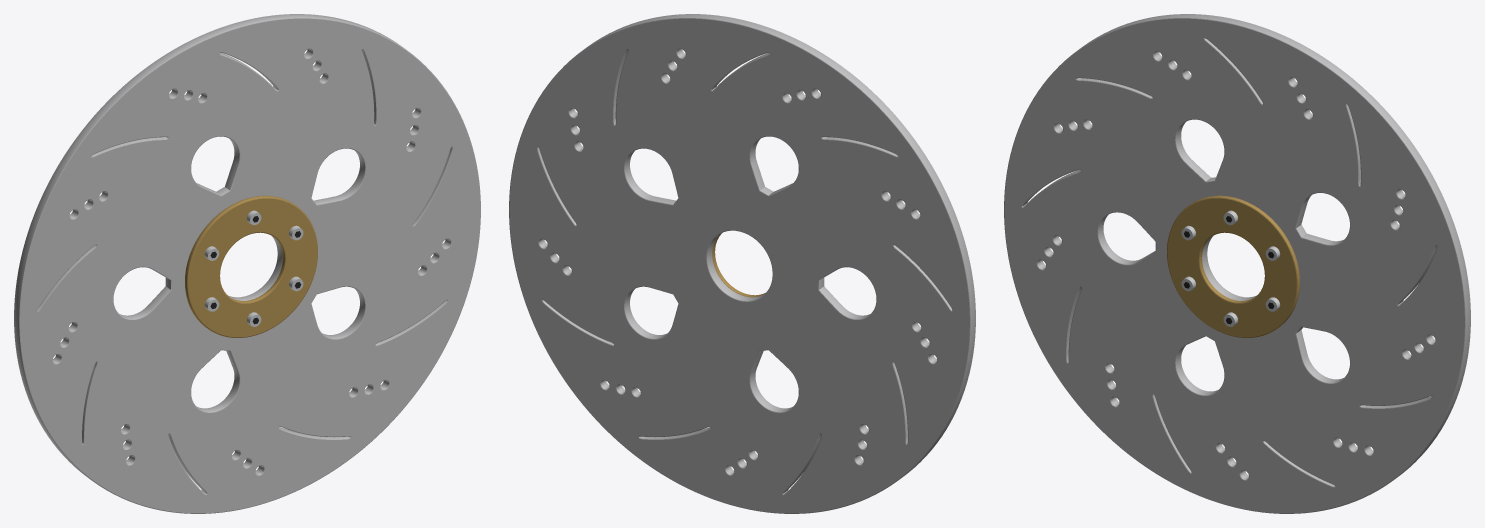
The model's file is onepiece.glb.
The picture shows the model from 3 angles, left to right: view 1: azimuth 30°, elevation 25°; view 2: azimuth 150°, elevation 25°; view 3: azimuth 330°, elevation 25°; orthographic projection.
Parts seen in each view (by area): view 1: disc_rear_onepiece; view 2: disc_rear_onepiece; view 3: disc_rear_onepiece.
Boxes of the visible parts, left/top/right/bottom form: disc_rear_onepiece: left=14, top=14, right=480, bottom=513; disc_rear_onepiece: left=509, top=14, right=975, bottom=513; disc_rear_onepiece: left=1004, top=14, right=1470, bottom=513.
Size of the model in its own units: 0.2368 by 0.2368 by 0.0101.
